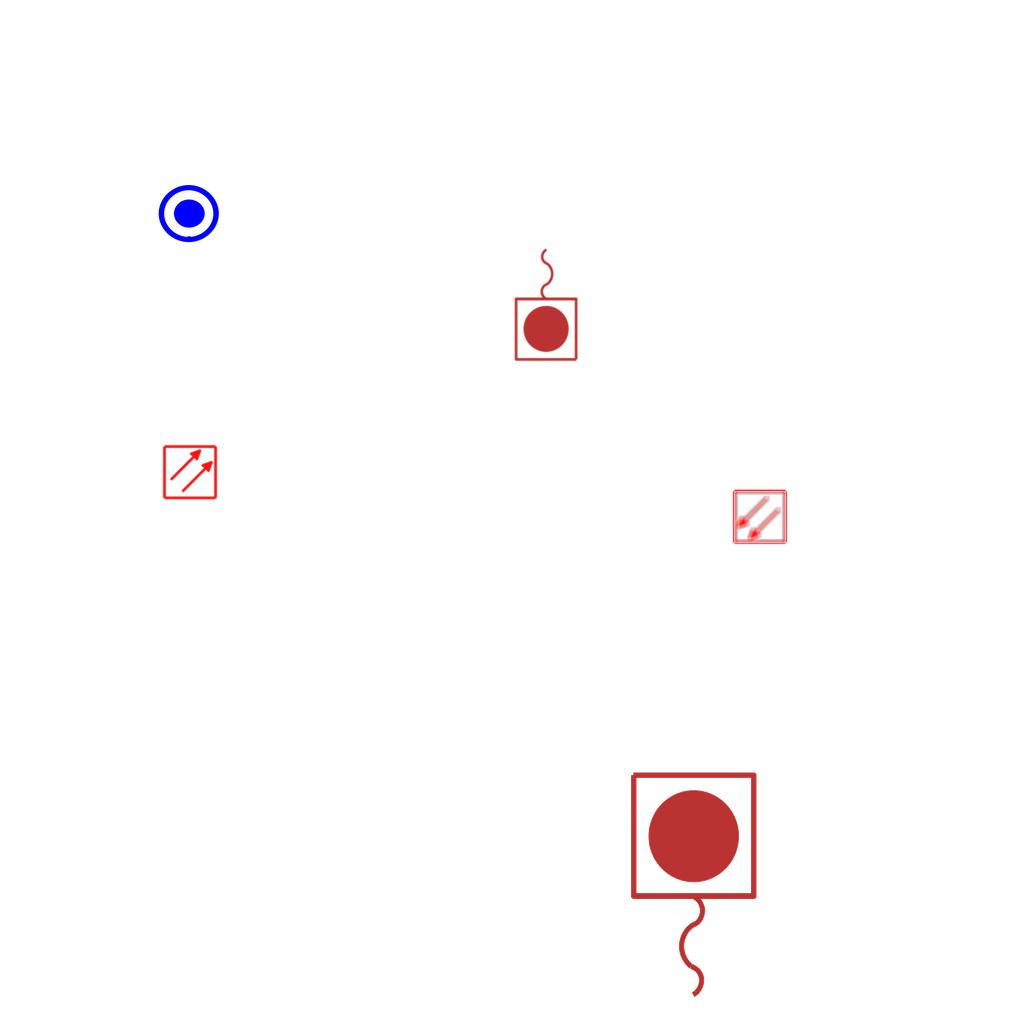RMO_Rauchmelder_optischer: (162, 444, 218, 500), (732, 489, 788, 545)
Taster: (156, 183, 222, 249)
Zugtaster: (620, 764, 764, 1008), (511, 243, 583, 365)
